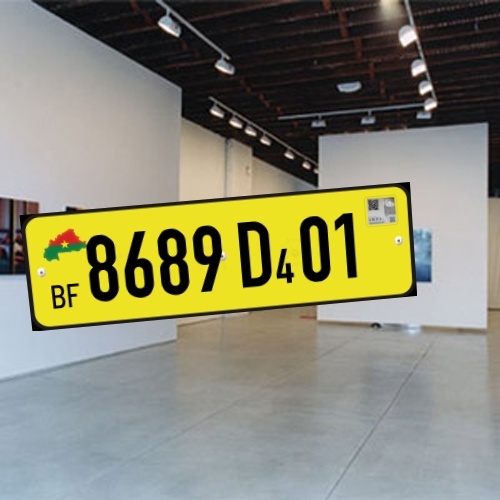plate: (15, 172, 426, 337)
